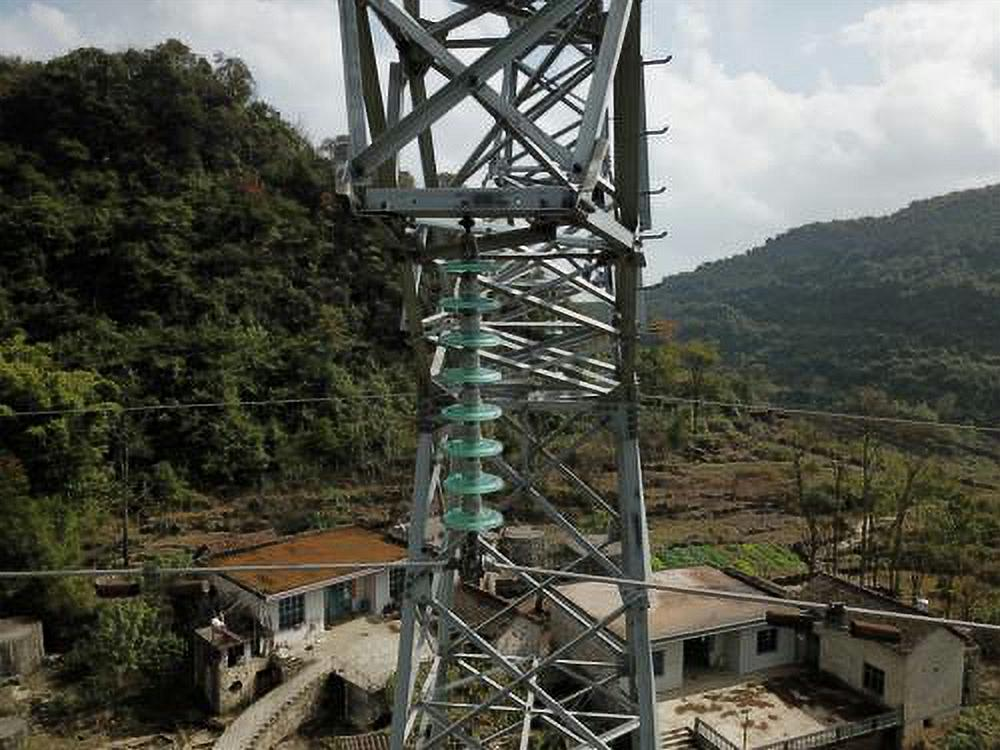insulator: (434, 251, 512, 538)
